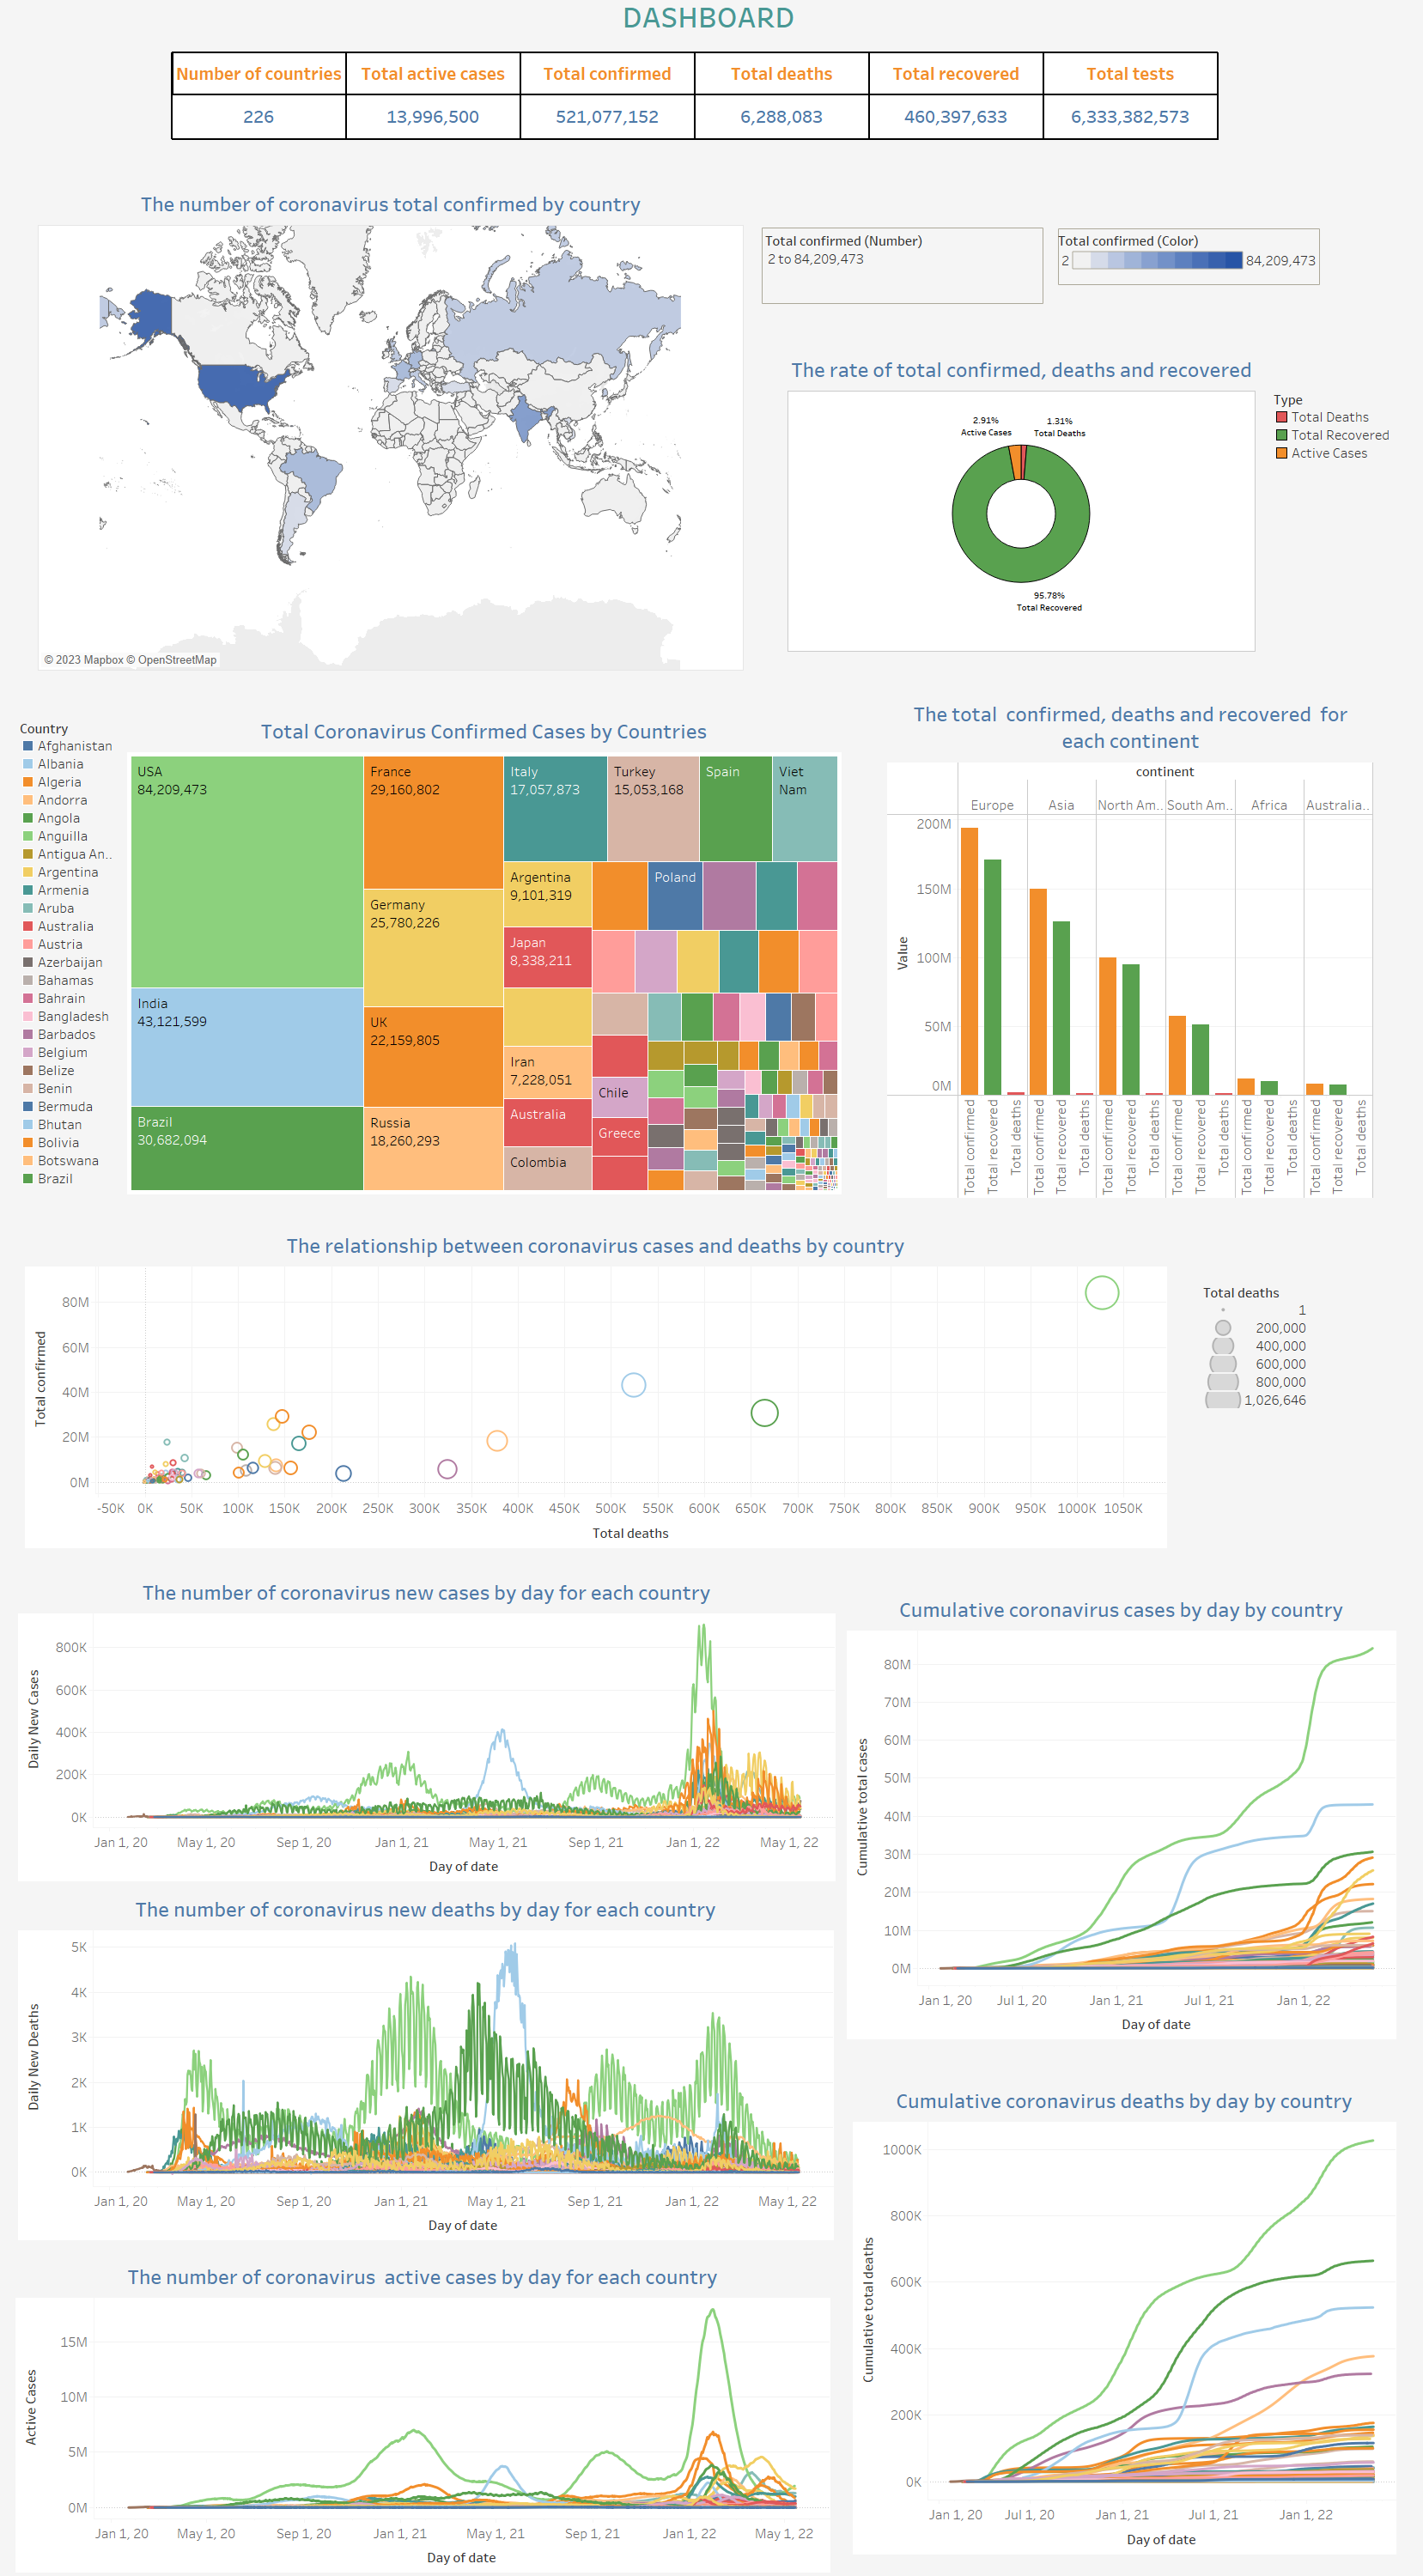

The page's visual inventory and layout, read from the dashboard file:
{"tool":"tableau","page":{"name":"Dashboard covid","canvas":[1657,3000],"ordinal":0},"visuals":[{"type":"worksheet","title":"Chỉ số","mark":"Automatic","box":[199,45,1254,136]},{"type":"worksheet","title":"Map ca nhiễm","mark":"Automatic","box":[44,215,822,566]},{"type":"filter","title":"Map ca nhiễm","param":"[federated.1mvbxbv09wel1v1800s2r0asbms6].[sum:total_confirmed:qk]","box":[887,265,328,89]},{"type":"legend","title":"Map ca nhiễm","param":"[federated.1mvbxbv09wel1v1800s2r0asbms6].[sum:total_confirmed:qk]","box":[1232,266,305,87]},{"type":"worksheet","title":"Pie Chart","mark":"Pie","rows":["Calculation_275564034219474946","Calculation_275564034219474946"],"box":[917,408,545,351]},{"type":"legend","title":"Pie Chart","param":"[federated.1mvbxbv09wel1v1800s2r0asbms6].[:Measure Names]","box":[1482,453,141,107]},{"type":"worksheet","title":"bar chart continent","mark":"Automatic","cols":["continent"],"box":[1033,809,567,587]},{"type":"worksheet","title":"HeatMap","mark":"Automatic","box":[148,829,870,562]},{"type":"legend","title":"HeatMap","param":"[federated.1mvbxbv09wel1v1800s2r0asbms6].[none:country (worldometer!coronavirus!","box":[22,836,117,546]},{"type":"worksheet","title":"Scatter ca nhiễm và tử vong","mark":"Automatic","rows":["total_confirmed"],"cols":["total_deaths"],"box":[29,1428,1329,375]},{"type":"legend","title":"Scatter ca nhiễm và tử vong","param":"[federated.1mvbxbv09wel1v1800s2r0asbms6].[sum:total_deaths:qk]","box":[1400,1493,157,166]},{"type":"worksheet","title":"Đường ca nhiễm","mark":"Automatic","rows":["daily_new_cases"],"cols":["date"],"box":[21,1832,951,359]},{"type":"worksheet","title":"Đường culmulative cases","mark":"Automatic","rows":["cumulative_total_cases"],"cols":["date"],"box":[986,1852,639,523]},{"type":"worksheet","title":"Đường ca tử vong","mark":"Automatic","rows":["daily_new_deaths"],"cols":["date"],"box":[21,2201,949,408]},{"type":"worksheet","title":"Đường culmulative deaths","mark":"Automatic","rows":["cumulative_total_deaths"],"cols":["date"],"box":[993,2424,632,551]},{"type":"worksheet","title":"Đường ca dương tính","mark":"Automatic","rows":["active_cases"],"cols":["date"],"box":[18,2629,948,367]}]}

Visuals, with their boxes in screenshot pixels (x1, y1, x2, y2), scaled from the page's 1657x3000 canvas onto the 1423x2576 screenshot:
"Chỉ số" worksheet: 171 39 1248 155
"Map ca nhiễm" worksheet: 38 185 744 671
"Map ca nhiễm" filter: 762 228 1043 304
"Map ca nhiễm" legend: 1058 228 1320 303
"Pie Chart" worksheet (Pie marks): 788 350 1256 652
"Pie Chart" legend: 1273 389 1394 481
"bar chart continent" worksheet: 887 695 1374 1199
"HeatMap" worksheet: 127 712 874 1194
"HeatMap" legend: 19 718 119 1187
"Scatter ca nhiễm và tử vong" worksheet: 25 1226 1166 1548
"Scatter ca nhiễm và tử vong" legend: 1202 1282 1337 1425
"Đường ca nhiễm" worksheet: 18 1573 835 1881
"Đường culmulative cases" worksheet: 847 1590 1396 2039
"Đường ca tử vong" worksheet: 18 1890 833 2240
"Đường culmulative deaths" worksheet: 853 2081 1396 2555
"Đường ca dương tính" worksheet: 15 2257 830 2573
